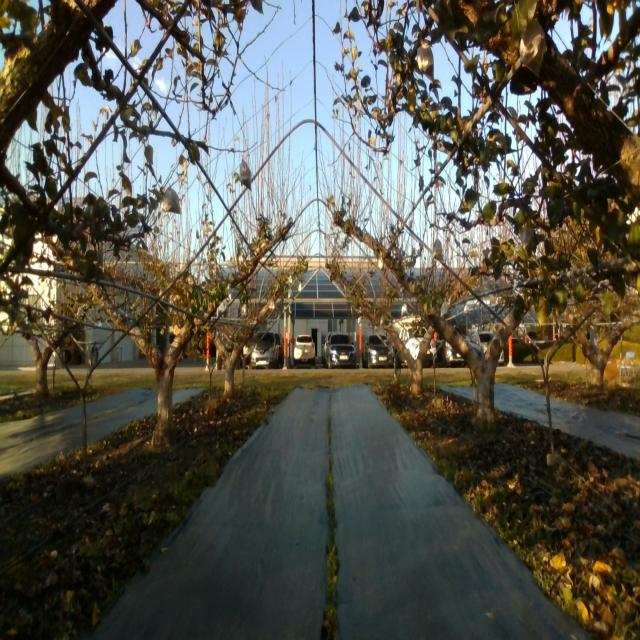pearbags: (416, 42, 436, 82), (162, 188, 181, 214), (240, 160, 252, 190), (432, 239, 443, 260)
